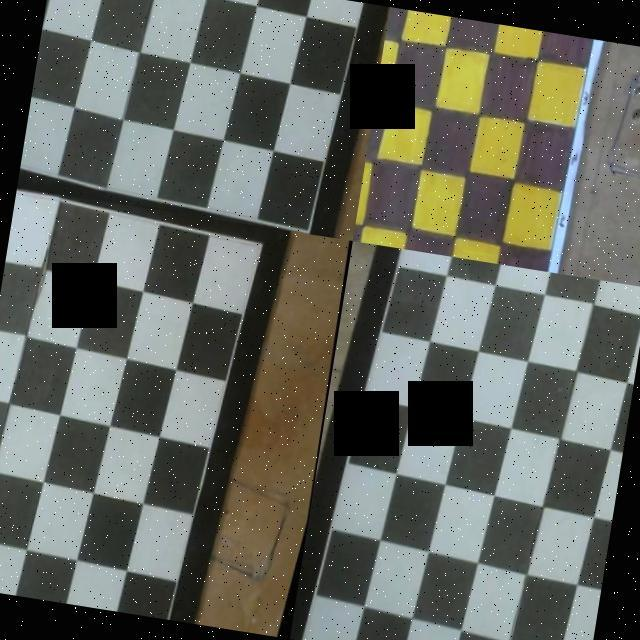chess-table-corners: (258, 240, 266, 250), (152, 614, 161, 618), (307, 230, 313, 235), (542, 267, 547, 272), (299, 637, 305, 640)
